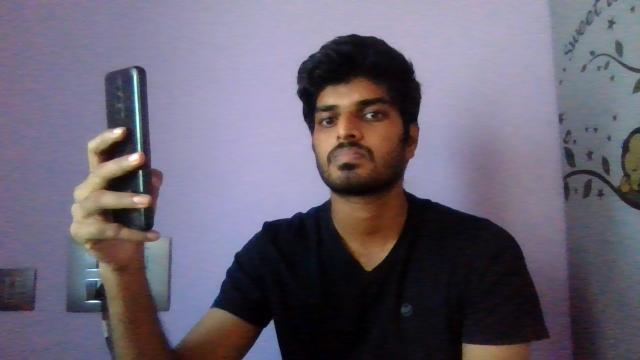PhoneUse: (103, 68, 157, 232)
SafeDriving: (355, 100, 392, 124), (313, 106, 342, 130)
